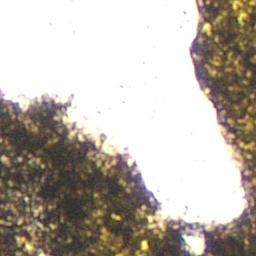cement_matrix: (0, 0, 255, 255), (184, 230, 205, 255)
gravel_crushed_stones: (0, 0, 247, 227), (185, 231, 204, 254)
